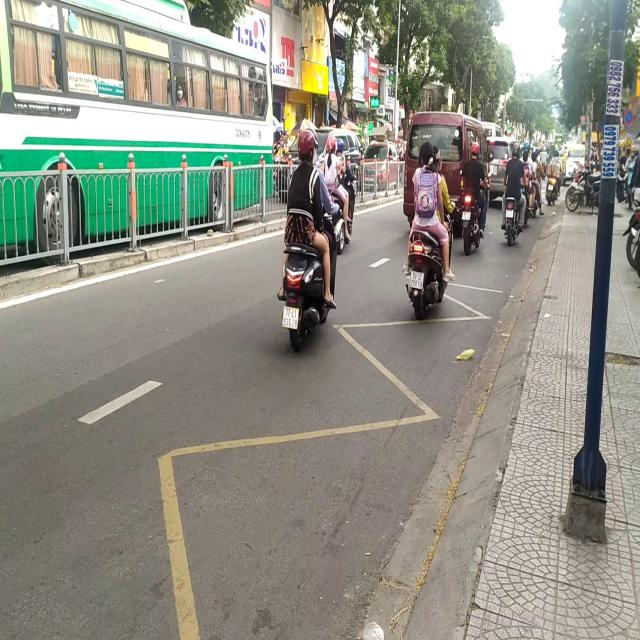bien_trang: (281, 304, 299, 330), (408, 266, 424, 288)
